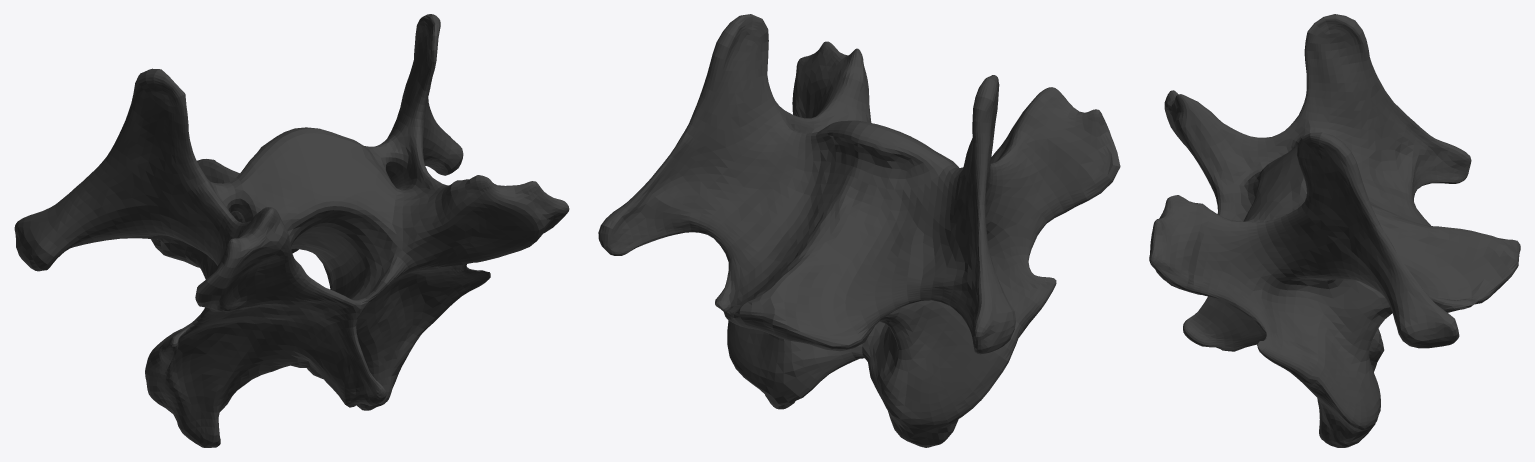
3 views of the same model, side by side, from view 1: azimuth 30°, elevation 25°; view 2: azimuth 150°, elevation 25°; view 3: azimuth 270°, elevation 25° (orthographic). The views are drawn at different scales.
Visible parts, largest first — view 1: c4_low; view 2: c4_low; view 3: c4_low.
Boxes of the visible parts, bbox=[...] form: c4_low: bbox=[14, 14, 569, 447]; c4_low: bbox=[598, 14, 1120, 447]; c4_low: bbox=[1149, 14, 1520, 447].
Bounding box in the file's own units: 55.5 × 49.51 × 48.37.
1 material, 1 textured.
